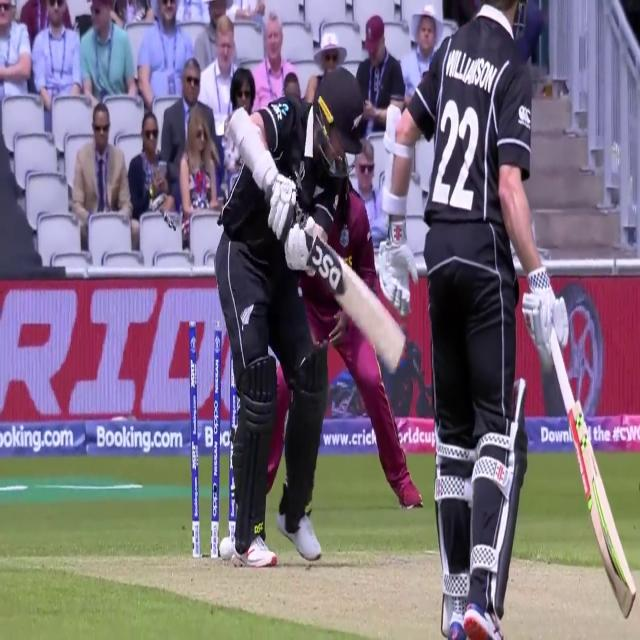ball: (217, 532, 234, 564)
